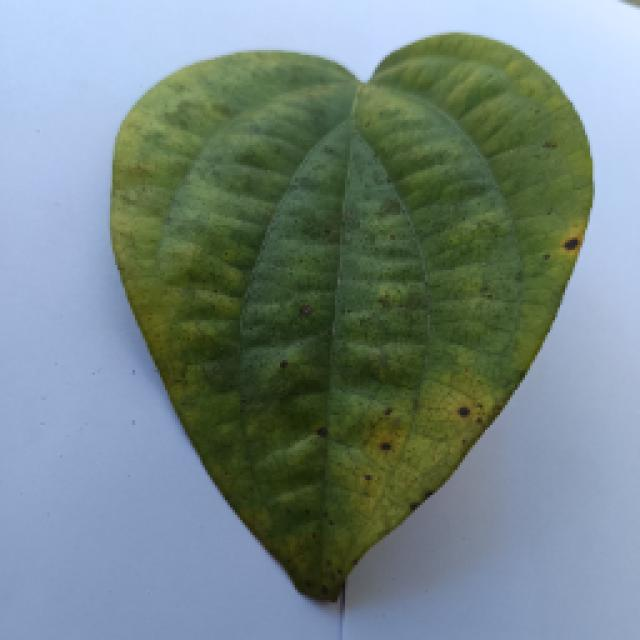slow-decline: (108, 30, 592, 600)
